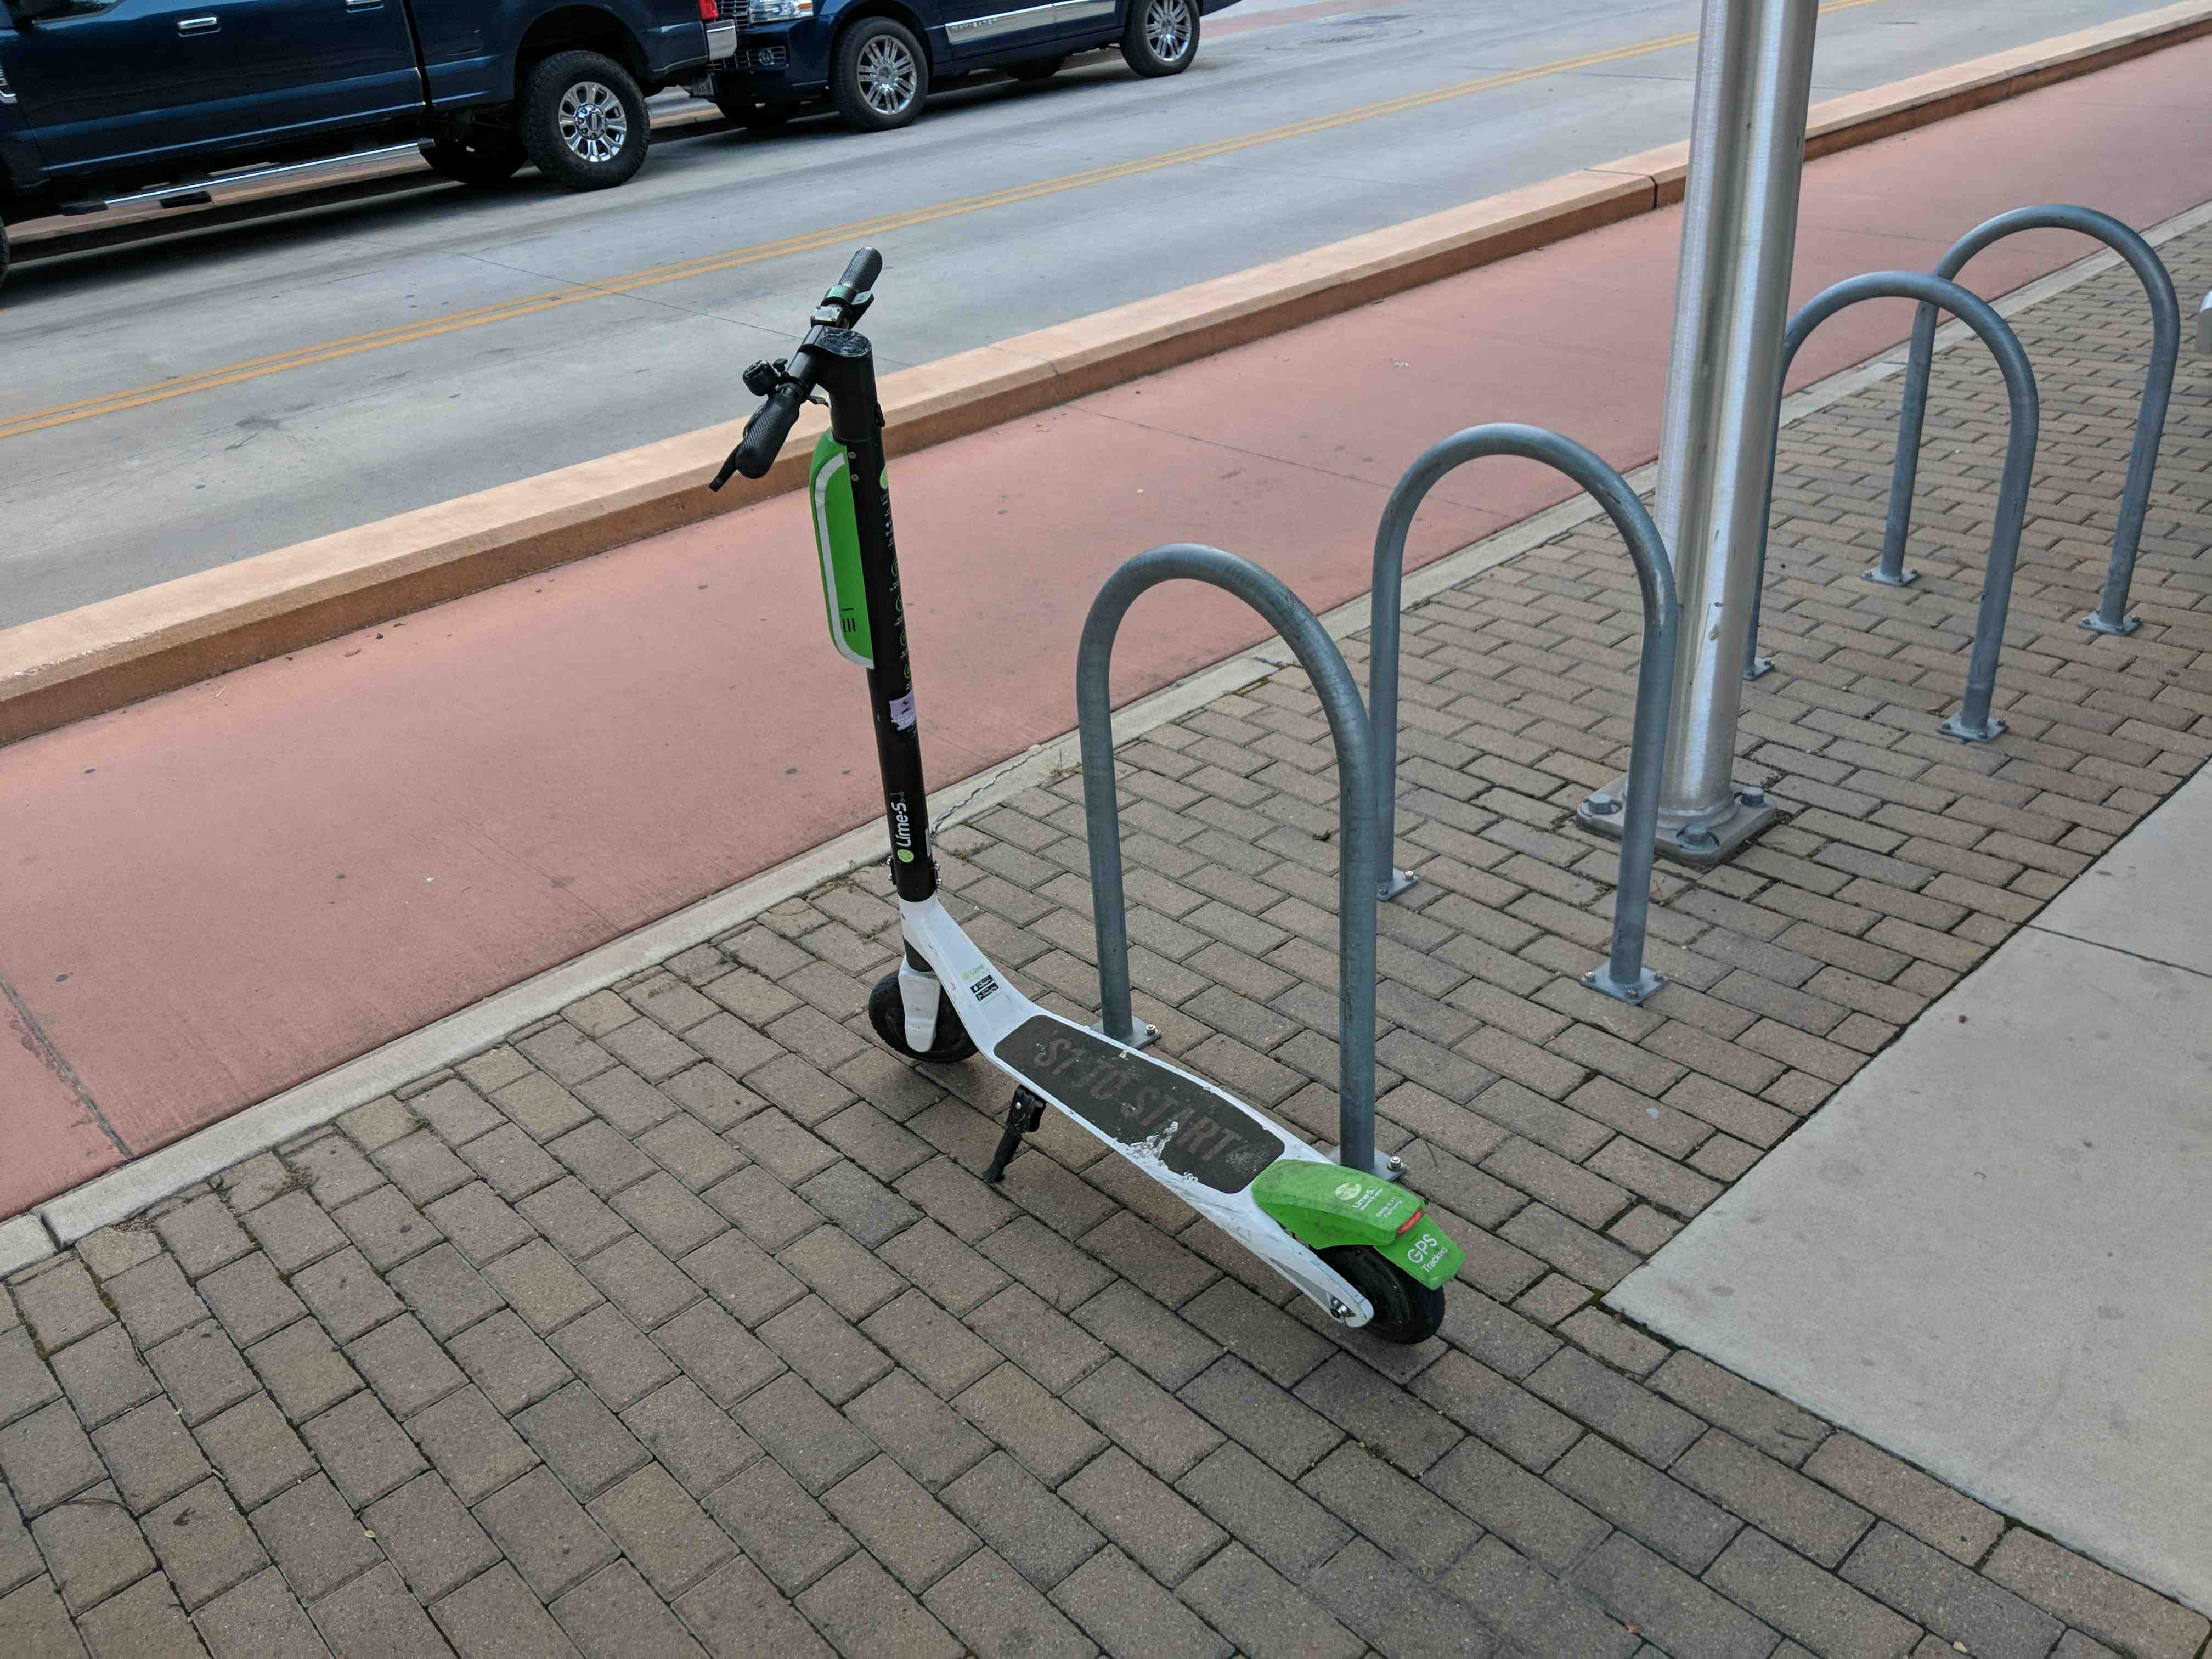scooter: (639, 244, 1500, 1354)
